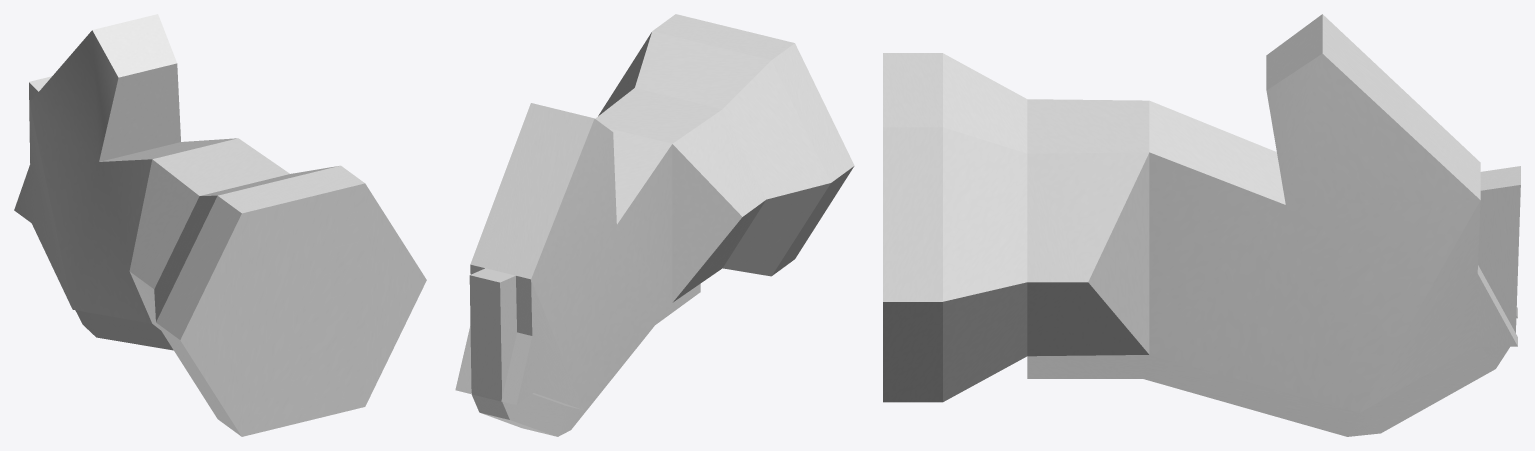
Rendered from statue_symbol_chess_white_2.FBX.
The picture shows the model from 3 angles, left to right: view 1: azimuth 30°, elevation 25°; view 2: azimuth 150°, elevation 25°; view 3: azimuth 270°, elevation 25°; orthographic projection. The views are drawn at different scales.
Visible parts, largest first — view 1: acc_3; view 2: acc_3; view 3: acc_3.
Part boxes in pixels (x1,y1,x2,y2): acc_3: (14,14,426,436); acc_3: (455,14,854,436); acc_3: (883,14,1520,436).
Bounding box in the file's own units: 154 × 189 × 279.
